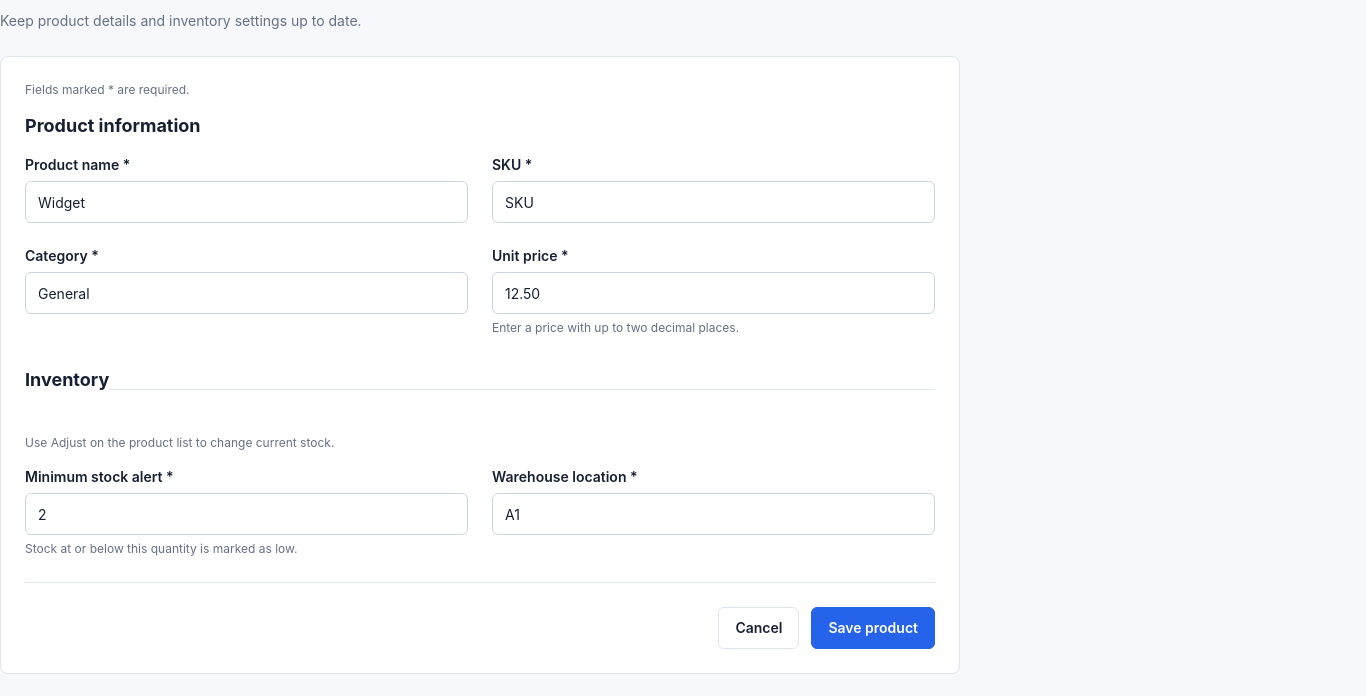
shows product field errors without losing input and excludes current stock from edit payloads
Replace the text in the field labelled "SKU *" with "DUPLICATE": {"x": 714, "y": 202} 492,181 -> 935,223
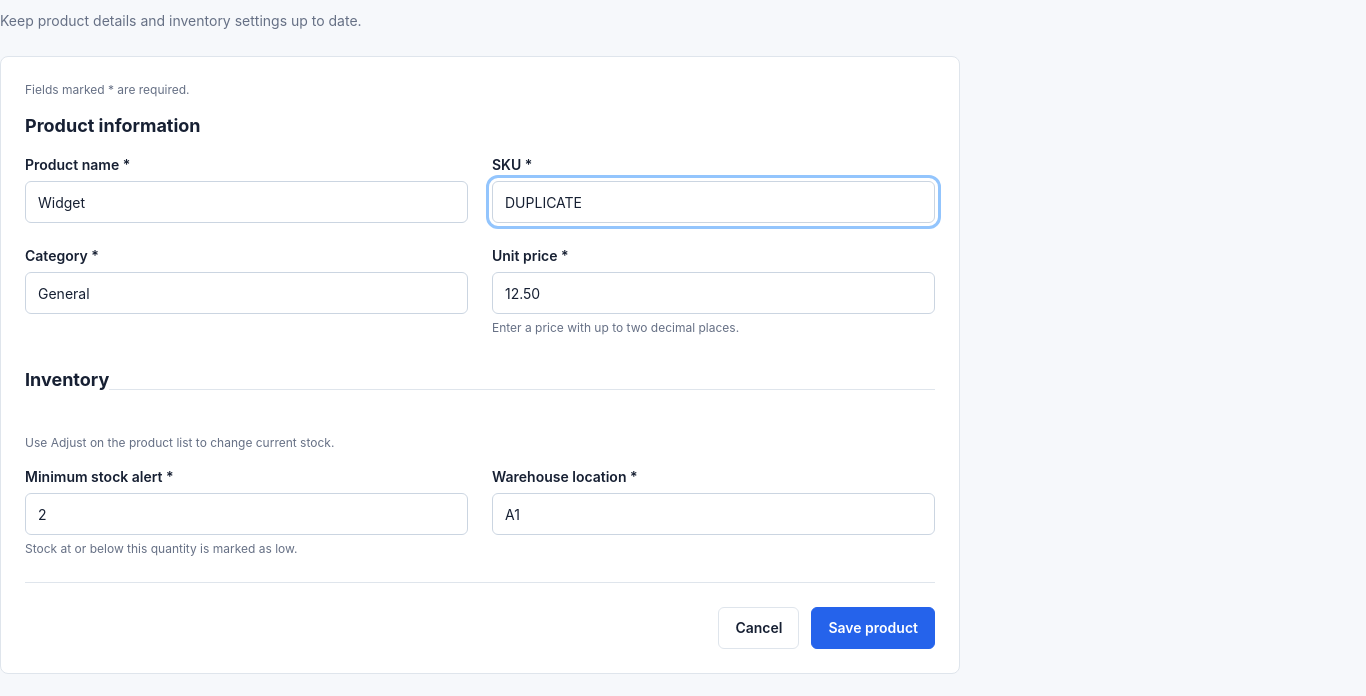
Click the button "Save product": {"x": 873, "y": 628} 811,607 -> 935,649
(page scrolled)
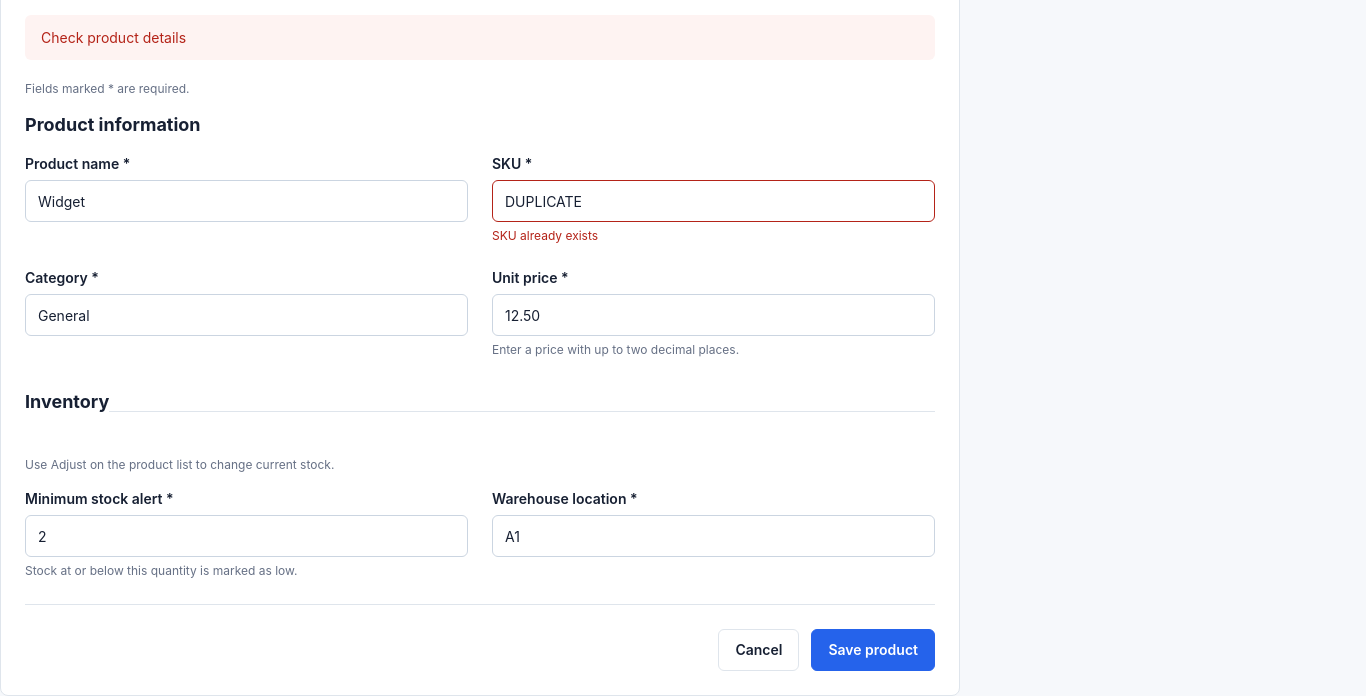
Check: the text "SKU already exists" is shown, box 492,228 -> 598,243
Click the button "Save product": {"x": 873, "y": 650} 811,629 -> 935,671
(page scrolled)
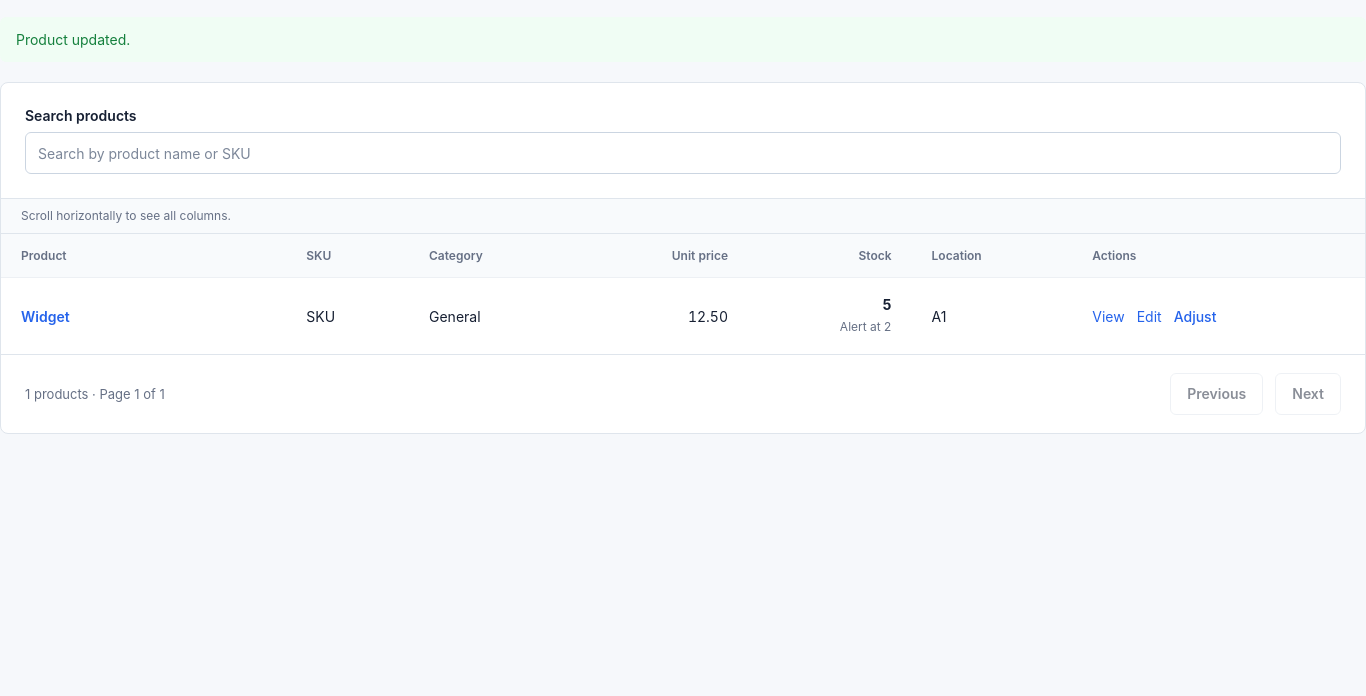
Check: the text "Product updated." is shown, box 0,17 -> 1365,62
